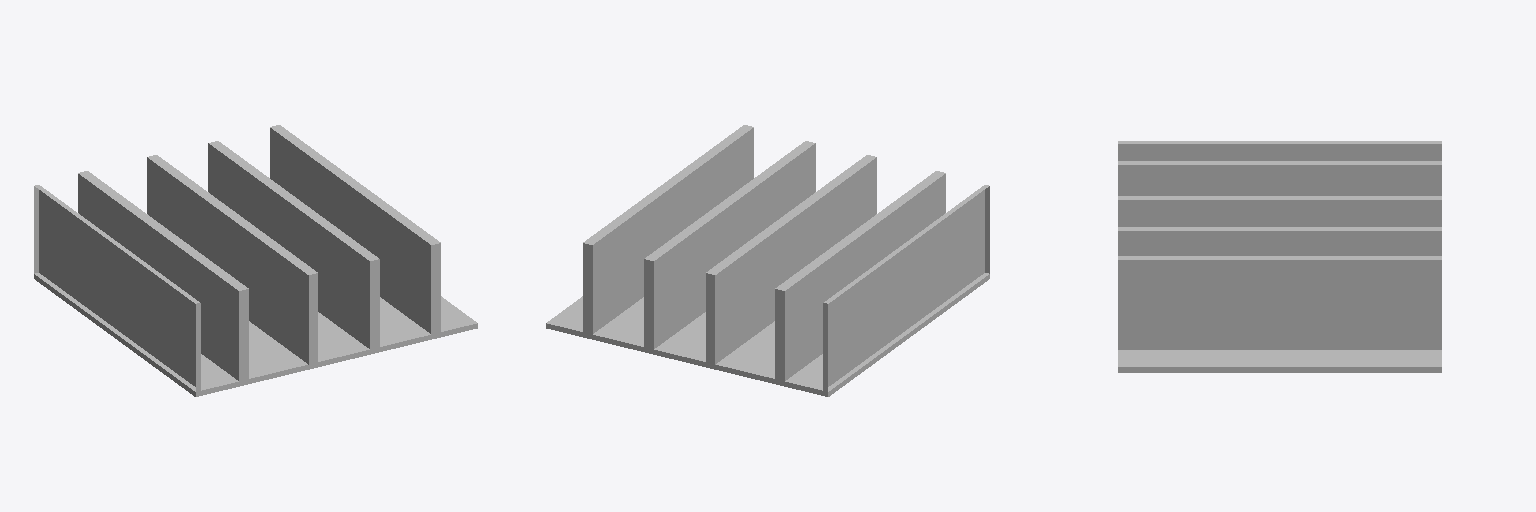
File: housesp_121.obj
3 renders of one model, left to right at view 1: azimuth 30°, elevation 25°; view 2: azimuth 150°, elevation 25°; view 3: azimuth 270°, elevation 25°, orthographic.
Bounding box in the file's own units: 57 × 18.4 × 56.48.